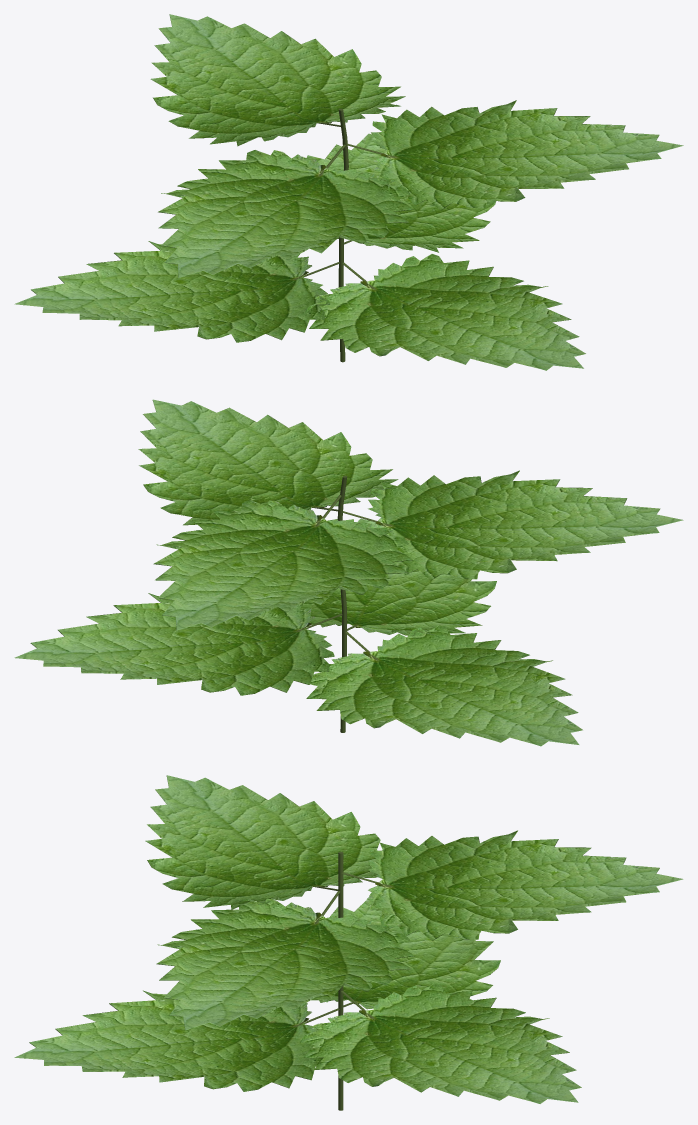
Rendered from aaaku.fbx.
3 views of the same model, one above another, from view 1: azimuth 30°, elevation 25°; view 2: azimuth 150°, elevation 25°; view 3: azimuth 270°, elevation 25° (orthographic).
Visible parts, largest first — view 1: aaku; view 2: aaku; view 3: aaku.
Boxes of the visible parts, left/top/right/bottom form: aaku: left=14, top=14, right=683, bottom=370; aaku: left=14, top=399, right=683, bottom=746; aaku: left=14, top=775, right=683, bottom=1110.
Size of the model in its own units: 25.19 by 11.12 by 26.36.
Materials: 2 (1 with a texture image).
